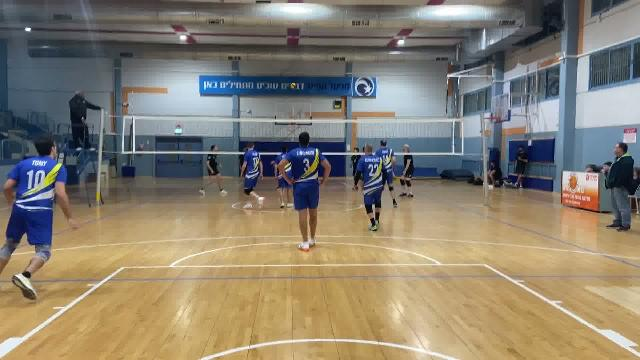ball: (288, 81, 299, 90)
